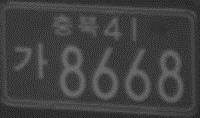1: (127, 17, 143, 41)
4: (104, 17, 122, 40)
6: (125, 47, 152, 102)
7: (91, 46, 120, 100)
8: (156, 50, 185, 103), (59, 45, 87, 97)
가: (12, 42, 48, 79)
충북_O: (52, 14, 98, 38)
